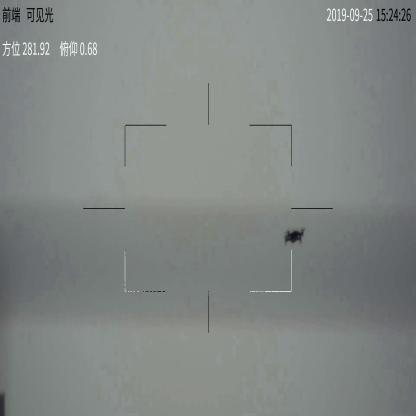uav: (282, 228, 303, 244)
